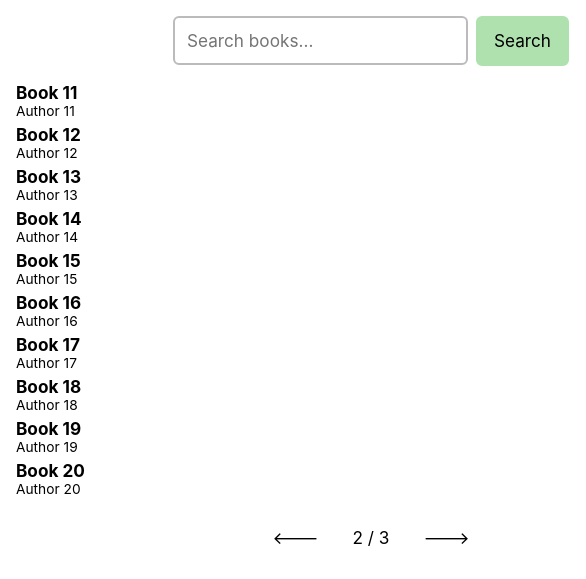
Test: given the user is on the second page of results, when the user clicks the "Next page" button, it should show the last page of results and the expected paginatio
Expected: the text "2 / 3" is shown, [254,512,488,562]
Click the 2nd button named "Next page" at {"x": 447, "y": 537}, box [406,512,488,562]
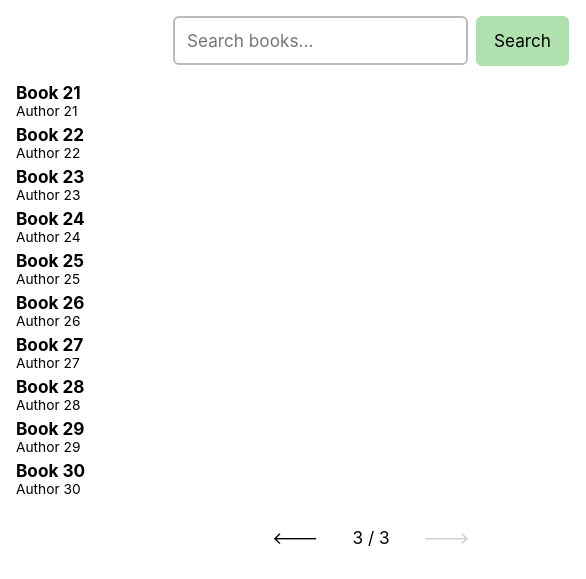
Result: the text "Book 21" is shown at [16,82,81,102]
Result: the text "Book 22" is shown at [16,124,84,144]
Result: the text "3 / 3" is shown at [254,512,488,562]
